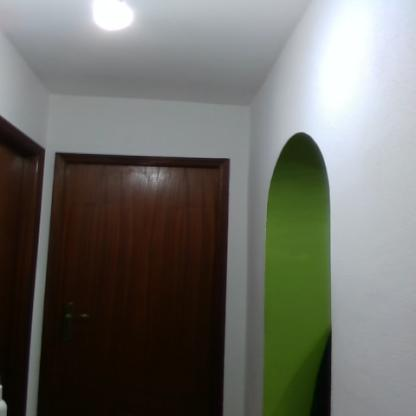closed: (35, 144, 239, 416), (0, 122, 43, 416)
